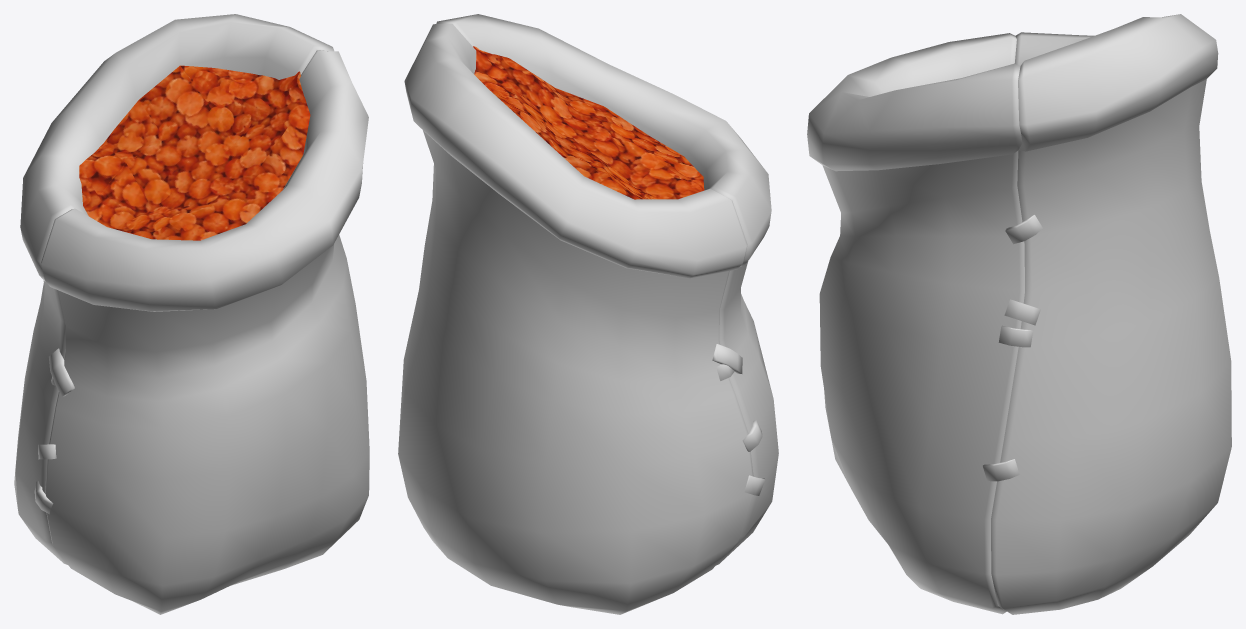
File: SM_Sack_C01.fbx
The picture shows the model from 3 angles, left to right: view 1: azimuth 30°, elevation 25°; view 2: azimuth 150°, elevation 25°; view 3: azimuth 270°, elevation 25°; orthographic projection. The views are drawn at different scales.
Visible parts, largest first — view 1: SM_Sack_C01; view 2: SM_Sack_C01; view 3: SM_Sack_C01.
Part boxes in pixels (x1,y1,x2,y2): SM_Sack_C01: (14,14,369,614); SM_Sack_C01: (398,14,778,614); SM_Sack_C01: (807,14,1231,614).
Size of the model in its own units: 209 by 203 by 307.
